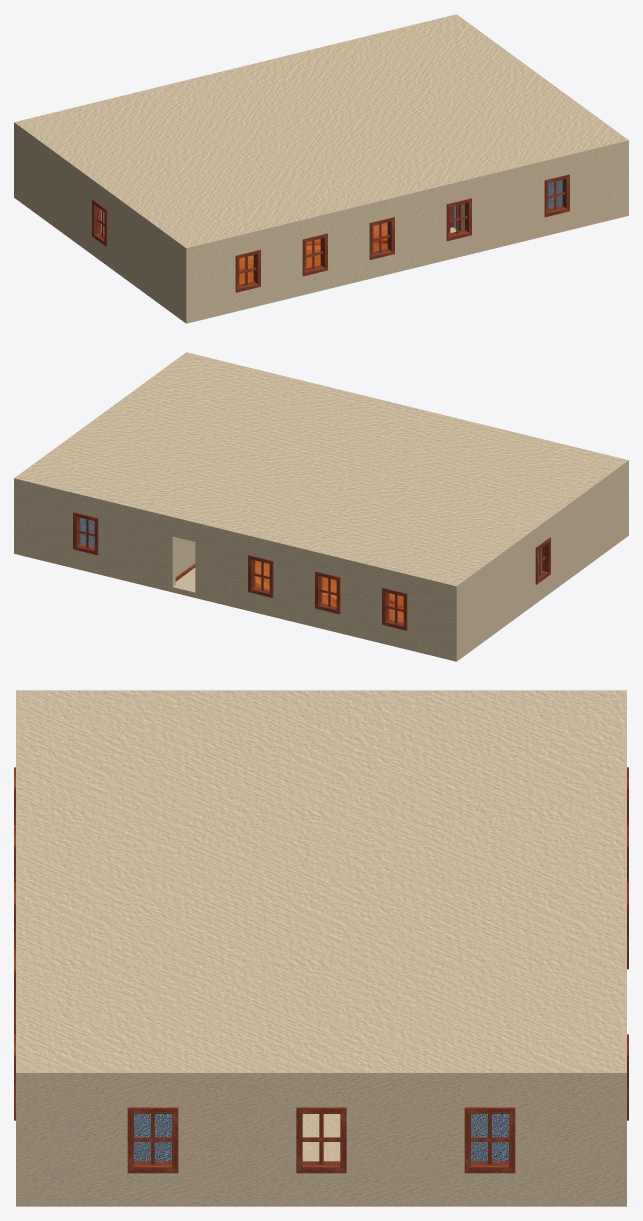
The model's file is practiceRoom.FBX.
3 views of the same model, one above another, from view 1: azimuth 30°, elevation 25°; view 2: azimuth 150°, elevation 25°; view 3: azimuth 270°, elevation 25° (orthographic). The views are drawn at different scales.
Visible parts, largest first — view 1: Box01, rearRoomFloor, windowFrame07, windowFrame08, windowFrame10, windowFrame06, windowFrame09, windowFrame11; view 2: Box01, mainRoomFloor, windowFrame03, windowFrame04, windowFrame05, windowFrame, windowFrame11; view 3: Box01, windowFrame12, windowFrame13, windowFrame14, RearOfficeRoom, FrontOfficeFloor.
Boxes of the visible parts, x1=… form: Box01: x1=14, y1=14, x2=628, y2=323; rearRoomFloor: x1=239, y1=222, x2=387, y2=284; windowFrame07: x1=302, y1=233, x2=327, y2=276; windowFrame08: x1=369, y1=217, x2=394, y2=259; windowFrame10: x1=544, y1=174, x2=569, y2=217; windowFrame06: x1=235, y1=249, x2=260, y2=292; windowFrame09: x1=446, y1=198, x2=471, y2=241; windowFrame11: x1=92, y1=199, x2=107, y2=246; Box01: x1=14, y1=352, x2=628, y2=661; mainRoomFloor: x1=255, y1=560, x2=403, y2=622; windowFrame03: x1=315, y1=571, x2=340, y2=614; windowFrame04: x1=248, y1=555, x2=273, y2=597; windowFrame05: x1=73, y1=512, x2=98, y2=555; windowFrame: x1=382, y1=587, x2=407, y2=630; windowFrame11: x1=535, y1=537, x2=550, y2=584; Box01: x1=16, y1=690, x2=626, y2=1206; windowFrame12: x1=296, y1=1107, x2=346, y2=1173; windowFrame13: x1=464, y1=1107, x2=515, y2=1173; windowFrame14: x1=127, y1=1107, x2=178, y2=1173; RearOfficeRoom: x1=134, y1=1114, x2=171, y2=1161; FrontOfficeFloor: x1=471, y1=1114, x2=508, y2=1161.
Size of the model in its own units: 18.1 by 2.93 by 12.23.
